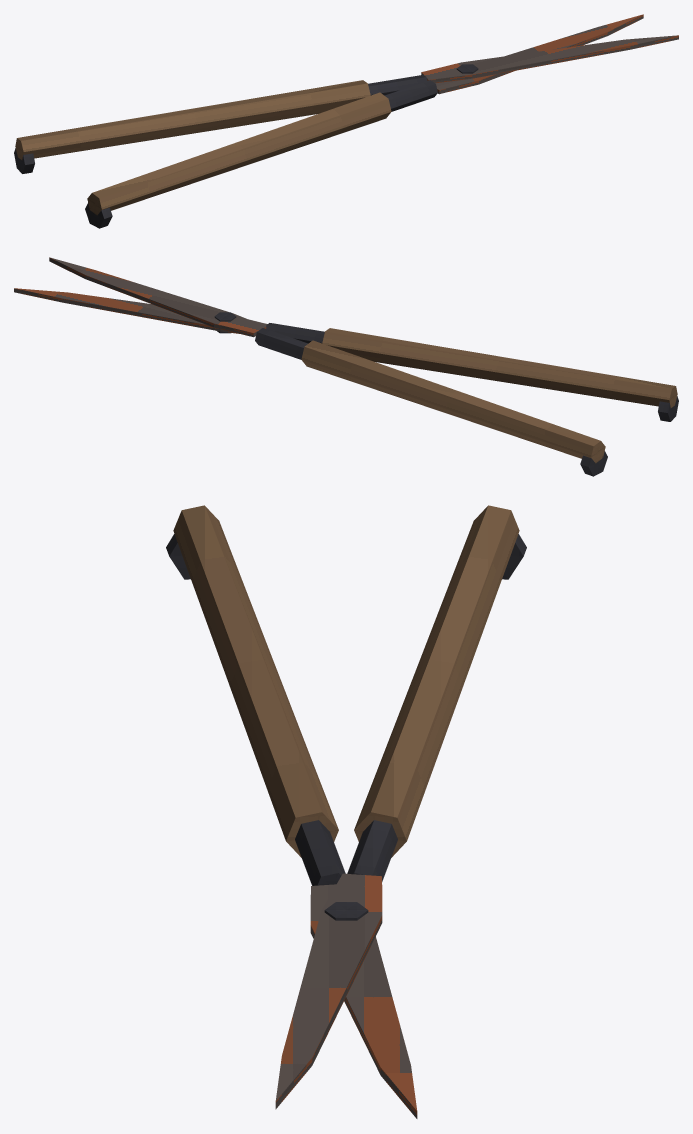
Rendered from garden-shears.glb.
The picture shows the model from 3 angles, top to bottom: view 1: azimuth 30°, elevation 25°; view 2: azimuth 150°, elevation 25°; view 3: azimuth 270°, elevation 25°; orthographic projection. The views are drawn at different scales.
Visible parts, largest first — view 1: garden-shears.001; view 2: garden-shears.001; view 3: garden-shears.001.
Boxes of the visible parts, x1=… form: garden-shears.001: x1=14, y1=14, x2=678, y2=228; garden-shears.001: x1=14, y1=257, x2=678, y2=476; garden-shears.001: x1=166, y1=505, x2=526, y2=1118.
Size of the model in its own units: 0.7731 by 0.0407 by 0.1994.
Materials: 1 (1 with a texture image).
